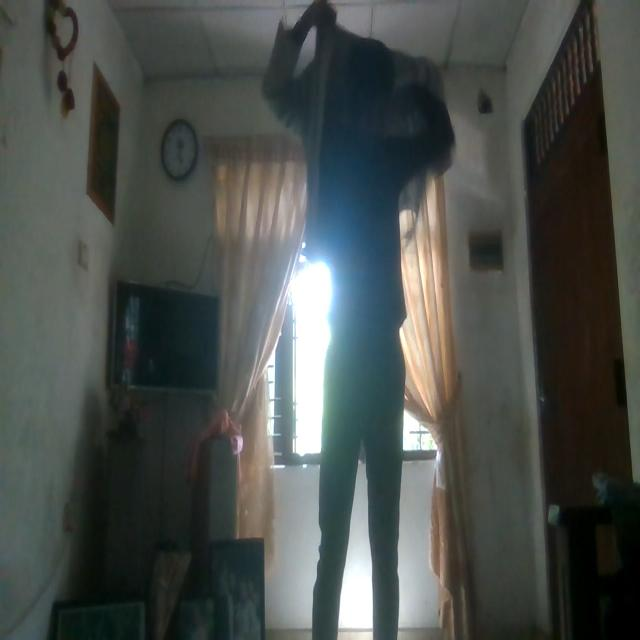Jacket_Wearer: (273, 10, 455, 284)
Person: (272, 0, 458, 640)
